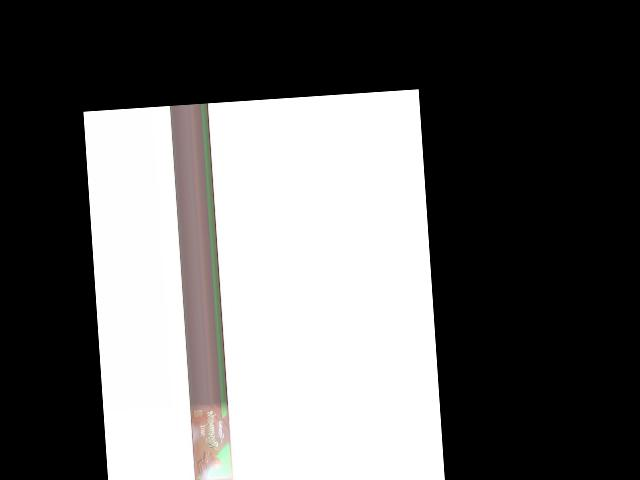chocolate: (190, 400, 231, 480)
